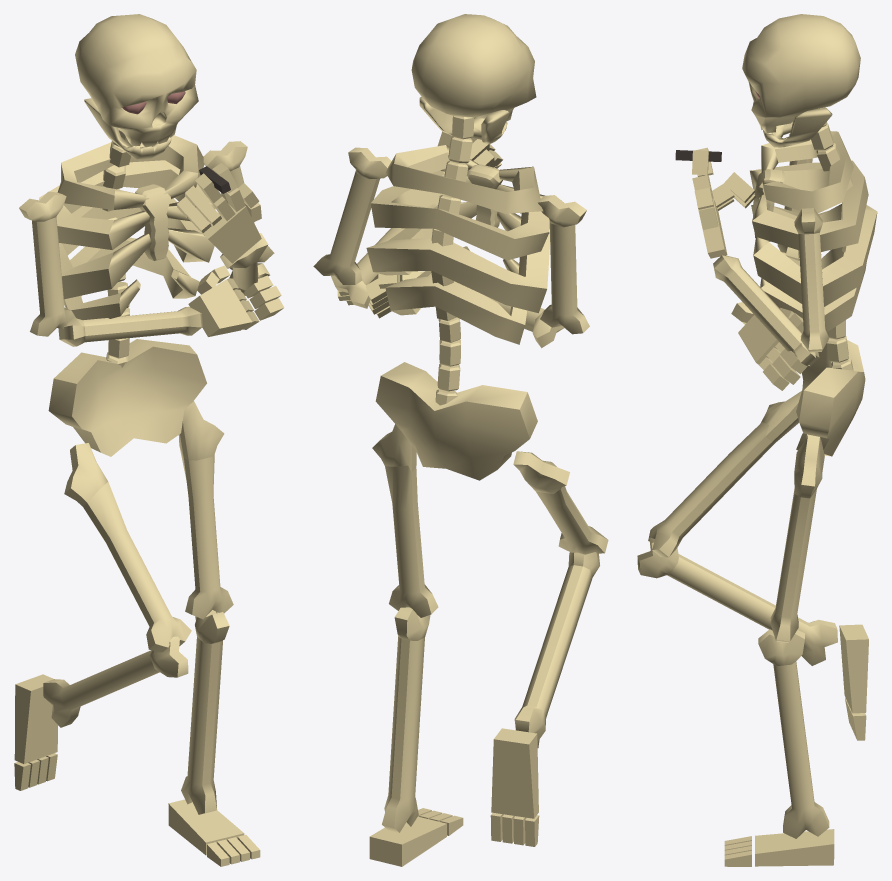
The model's file is skeleton_STONER_explode.fbx.
The picture shows the model from 3 angles, left to right: view 1: azimuth 30°, elevation 25°; view 2: azimuth 150°, elevation 25°; view 3: azimuth 270°, elevation 25°; orthographic projection. The views are drawn at different scales.
Parts seen in each view (by area): view 1: chest, pelvis, skull, tibiaL, tibiaR, fibiaR, handR, forearmR2, footL, upperarmL, handL, footR (+5 smaller); view 2: chest, pelvis, skull, fibiaR, tibiaR, footL, forearmR2, spine, upperarmL, upperarmR, tibiaL, footR (+5 smaller); view 3: chest, skull, fibiaR, tibiaL, tibiaR, forearmR2, pelvis, footR, upperarmR, forearmR, handR, footL (+3 smaller).
Boxes of the visible parts, <box> form: chest: <box>39,135,215,319</box>; pelvis: <box>48,339,206,456</box>; skull: <box>75,14,198,147</box>; tibiaL: <box>64,443,191,652</box>; tibiaR: <box>178,401,233,619</box>; fibiaR: <box>181,610,229,814</box>; handR: <box>177,163,261,263</box>; forearmR2: <box>43,636,188,727</box>; footL: <box>14,674,57,790</box>; upperarmL: <box>19,191,75,336</box>; handL: <box>188,265,284,336</box>; footR: <box>168,799,260,866</box>; chest: <box>366,145,550,344</box>; pelvis: <box>375,362,537,480</box>; skull: <box>411,14,536,121</box>; fibiaR: <box>382,607,430,832</box>; tibiaR: <box>372,424,438,617</box>; footL: <box>490,728,539,846</box>; forearmR2: <box>514,552,599,747</box>; spine: <box>431,115,474,405</box>; upperarmL: <box>537,195,589,334</box>; upperarmR: <box>313,147,391,284</box>; tibiaL: <box>513,451,608,554</box>; footR: <box>369,808,463,866</box>; chest: <box>750,131,877,331</box>; skull: <box>742,14,860,132</box>; fibiaR: <box>758,629,829,838</box>; tibiaL: <box>648,391,801,557</box>; tibiaR: <box>770,434,824,642</box>; forearmR2: <box>637,537,837,665</box>; pelvis: <box>796,340,865,456</box>; footR: <box>724,829,834,866</box>; upperarmR: <box>794,208,829,352</box>; forearmR: <box>713,255,819,365</box>; handR: <box>692,147,755,258</box>; footL: <box>839,624,868,740</box>.
Size of the model in its own units: 57.04 by 177 by 47.81.
